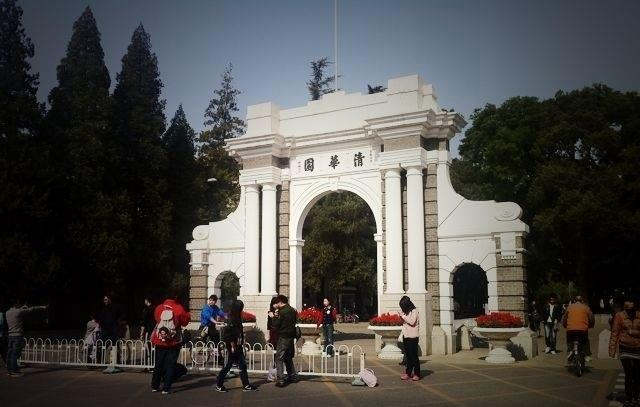Tsinghua_old_gate: (184, 74, 532, 352)
